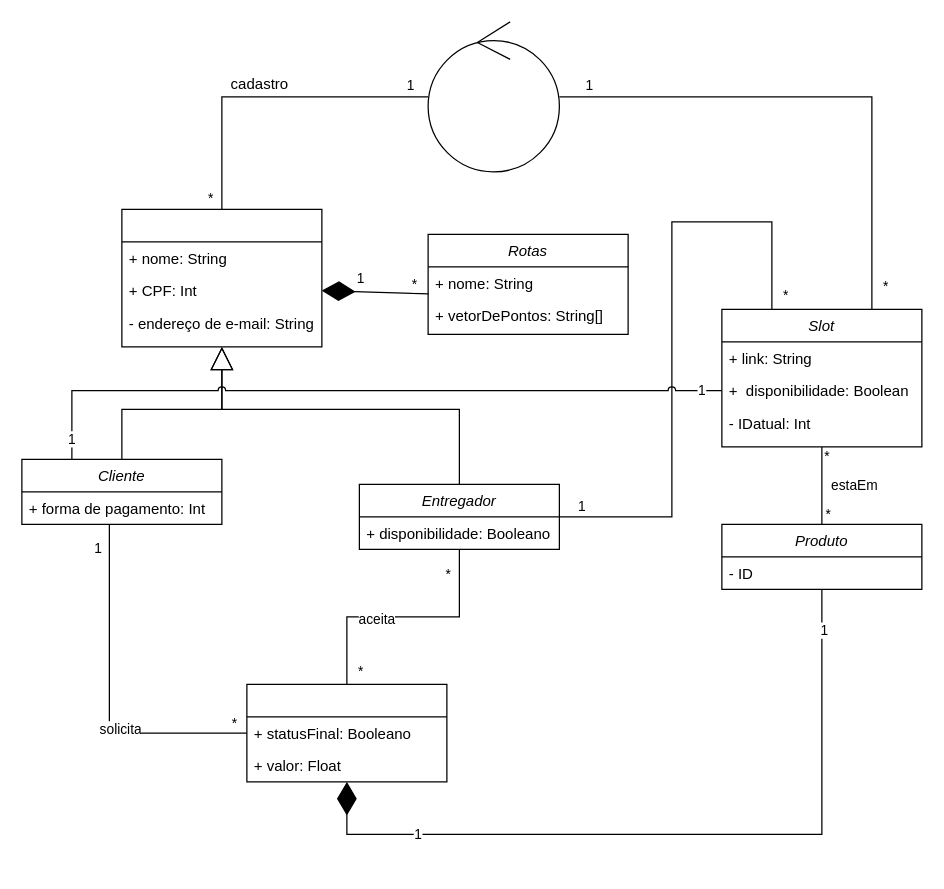
Image size: 944x889. Some labels were removed from this diagram. Each missing label, with the box of its shape:
App: (427, 21, 559, 172)
Entrega: (246, 683, 447, 782)
Usuário: (121, 208, 322, 347)
